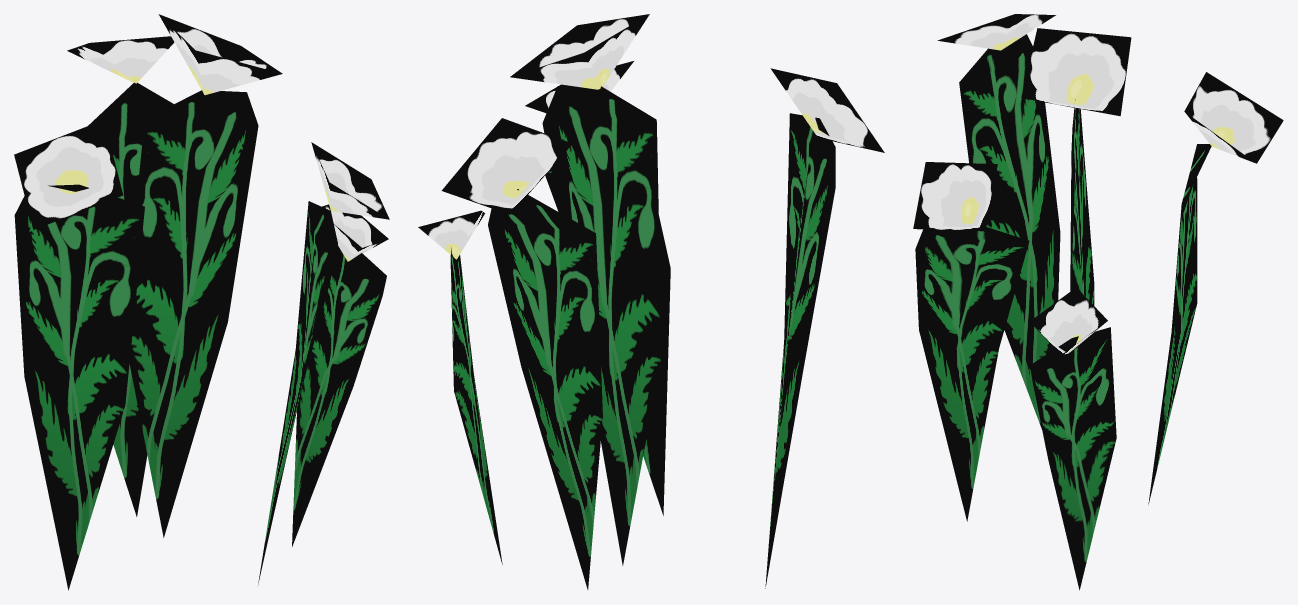
The model's file is Daisies.fbx.
The picture shows the model from 3 angles, left to right: view 1: azimuth 30°, elevation 25°; view 2: azimuth 150°, elevation 25°; view 3: azimuth 270°, elevation 25°; orthographic projection. The views are drawn at different scales.
Visible parts, largest first — view 1: Daisies; view 2: Daisies; view 3: Daisies.
Part boxes in pixels (x1=…): Daisies: x1=14, y1=14, x2=389, y2=590; Daisies: x1=418, y1=14, x2=884, y2=589; Daisies: x1=913, y1=14, x2=1283, y2=590.
Bounding box in the file's own units: 0.6317 × 0.8191 × 0.5409.
